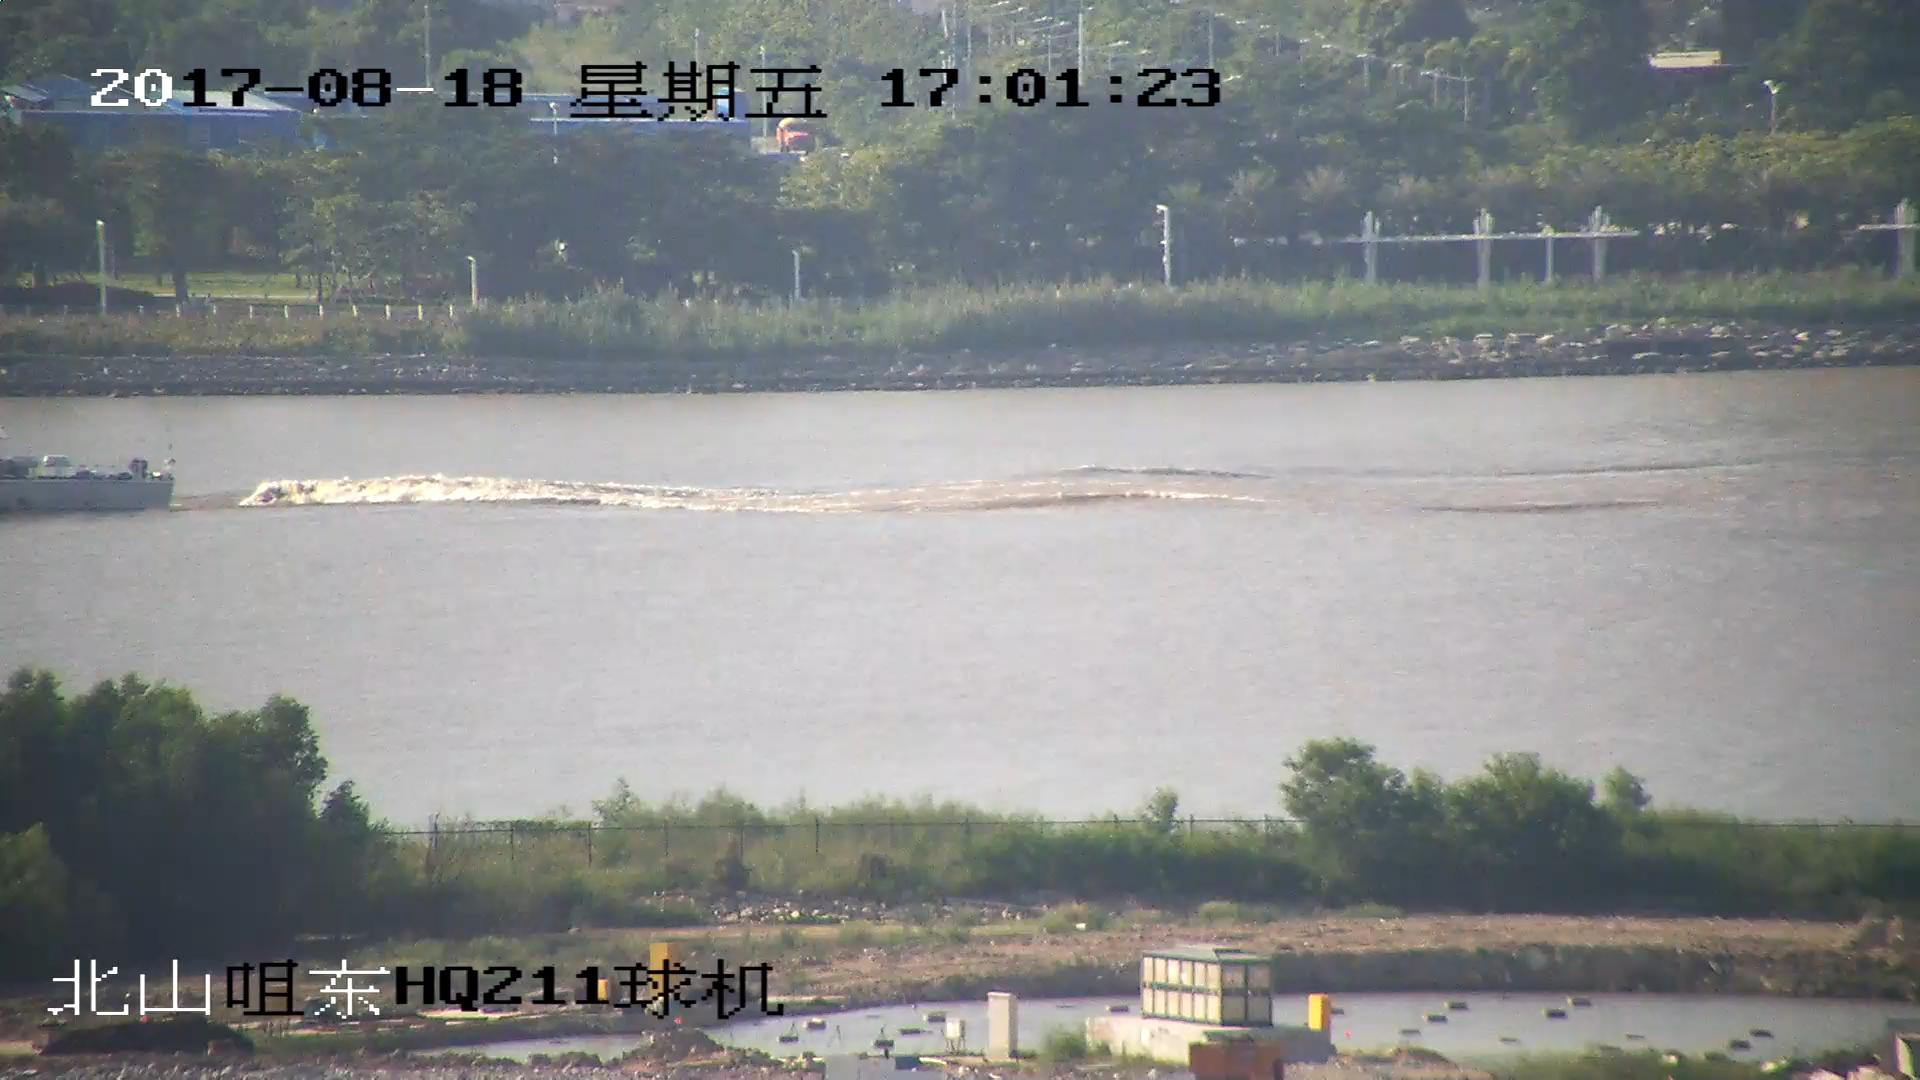passenger ship: (1, 445, 180, 520)
